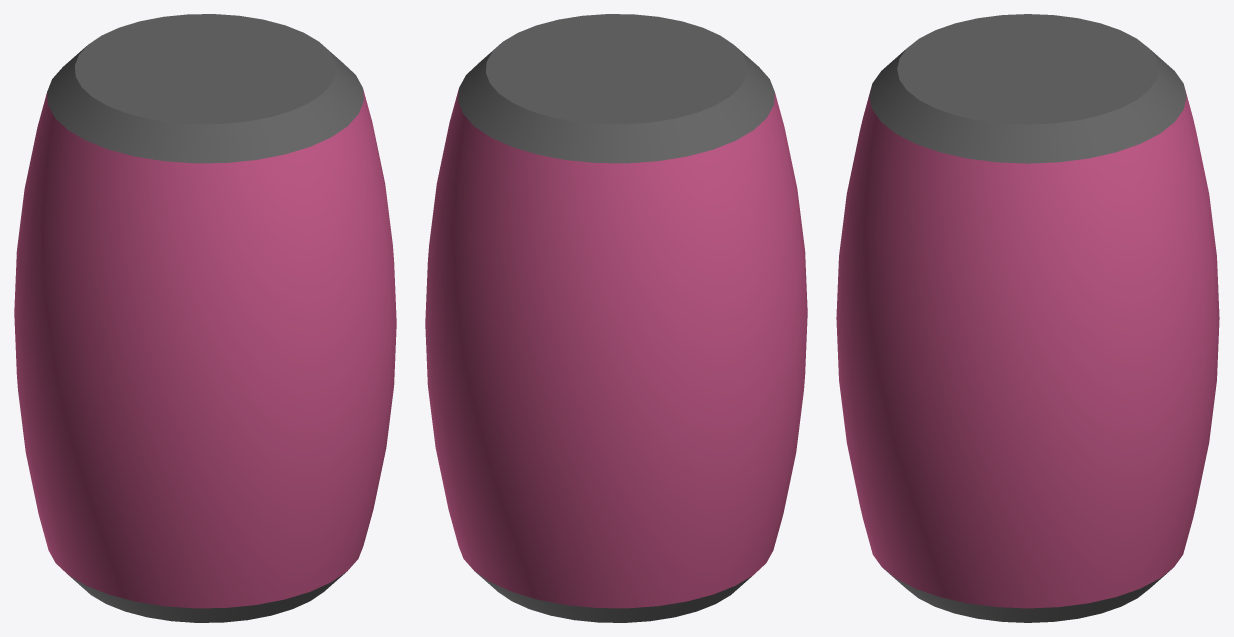
Rendered from 3D_Can_2.FBX.
The picture shows the model from 3 angles, left to right: view 1: azimuth 30°, elevation 25°; view 2: azimuth 150°, elevation 25°; view 3: azimuth 270°, elevation 25°; orthographic projection.
Visible parts, largest first — view 1: 3D_Can_2; view 2: 3D_Can_2; view 3: 3D_Can_2.
Boxes of the visible parts, <box> form: 3D_Can_2: <box>14,14,396,622</box>; 3D_Can_2: <box>425,14,807,622</box>; 3D_Can_2: <box>836,14,1219,622</box>.
Bounding box in the file's own units: 148 × 213 × 148.
